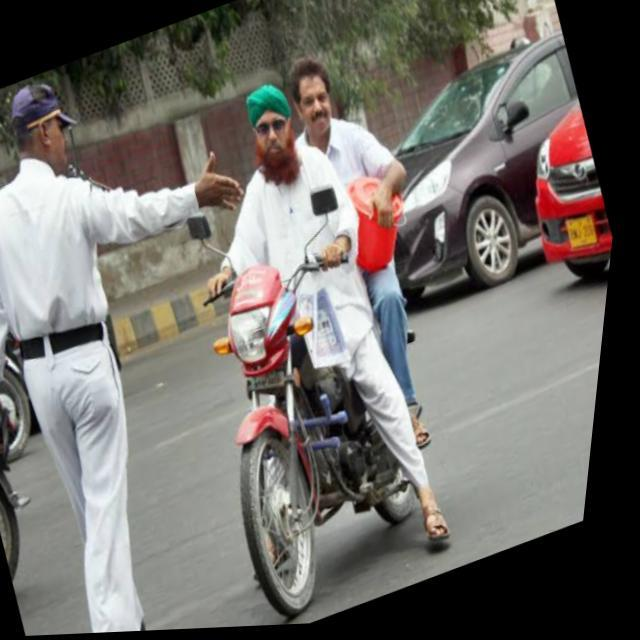Nonhelmet: (283, 52, 340, 142)
